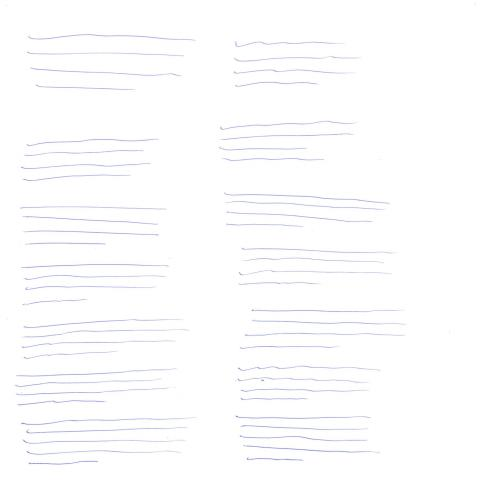Paragraph: (27, 34, 196, 92), (20, 416, 200, 464), (238, 308, 406, 349), (20, 318, 187, 359), (235, 415, 379, 460), (21, 263, 171, 306), (237, 247, 397, 286), (13, 368, 176, 406), (20, 138, 161, 181), (19, 205, 168, 245), (223, 191, 391, 226), (219, 120, 358, 161), (236, 366, 382, 402)
